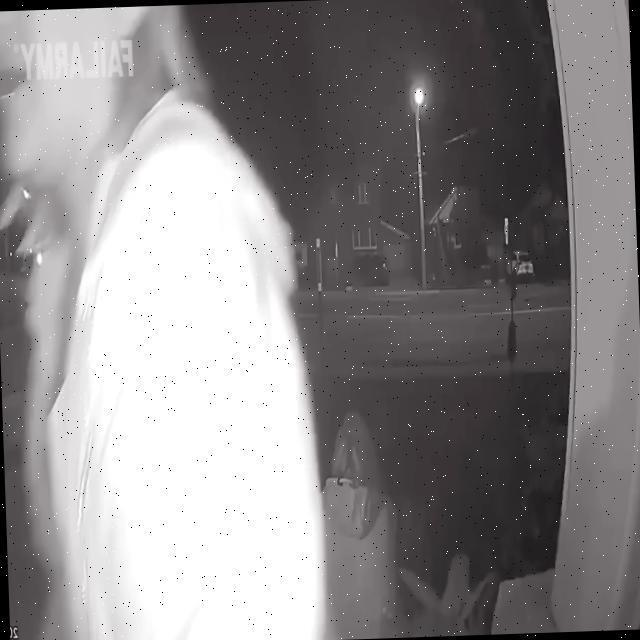person: (0, 3, 327, 640), (318, 413, 400, 640)
